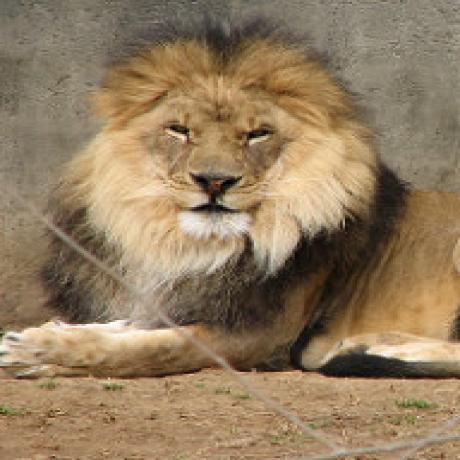Lion: (0, 11, 460, 388)
